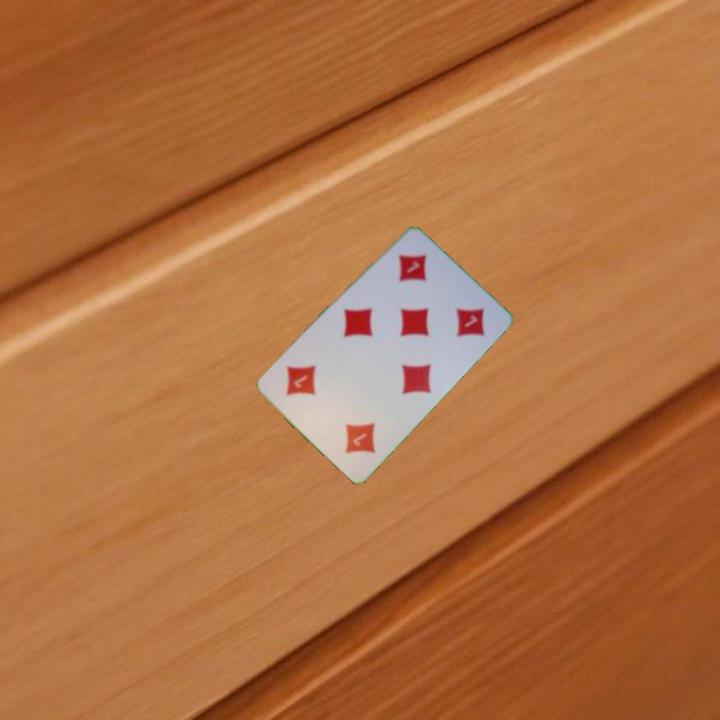d_7.png: (370, 233, 457, 319), (310, 387, 397, 473)
